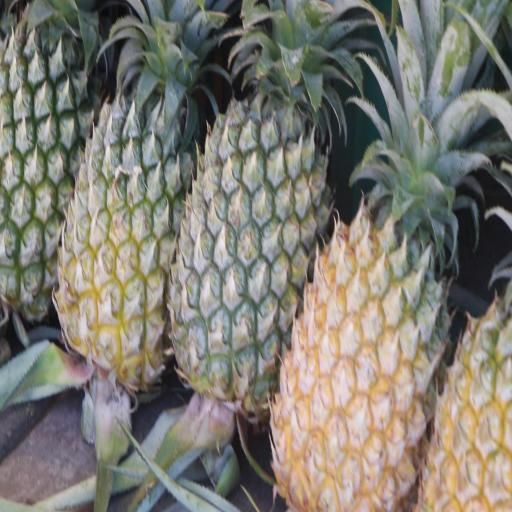------------------------------: (50, 0, 196, 397)
Pineapple - v8 v1: (263, 27, 458, 512)
